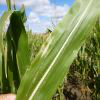Corn leaf blight: (17, 2, 98, 99), (0, 9, 33, 94)
